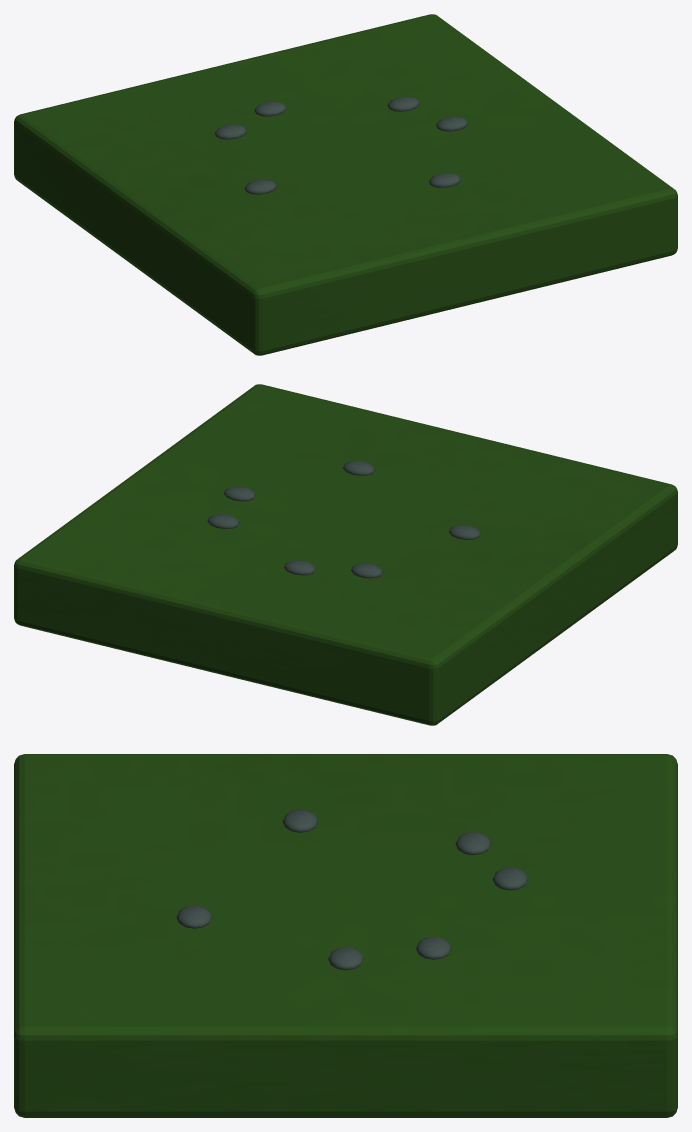
Rendered from SM_floor_tile.fbx.
3 renders of one model, top to bottom at view 1: azimuth 30°, elevation 25°; view 2: azimuth 150°, elevation 25°; view 3: azimuth 270°, elevation 25°, orthographic. The views are drawn at different scales.
Parts seen in each view (by area): view 1: SM_floor_tile; view 2: SM_floor_tile; view 3: SM_floor_tile.
Boxes of the visible parts, box(x1,y1,x2,y2) form: SM_floor_tile: box(14, 14, 677, 355); SM_floor_tile: box(14, 384, 677, 725); SM_floor_tile: box(14, 754, 677, 1117).
Bounding box in the file's own units: 1 × 1 × 0.165.
